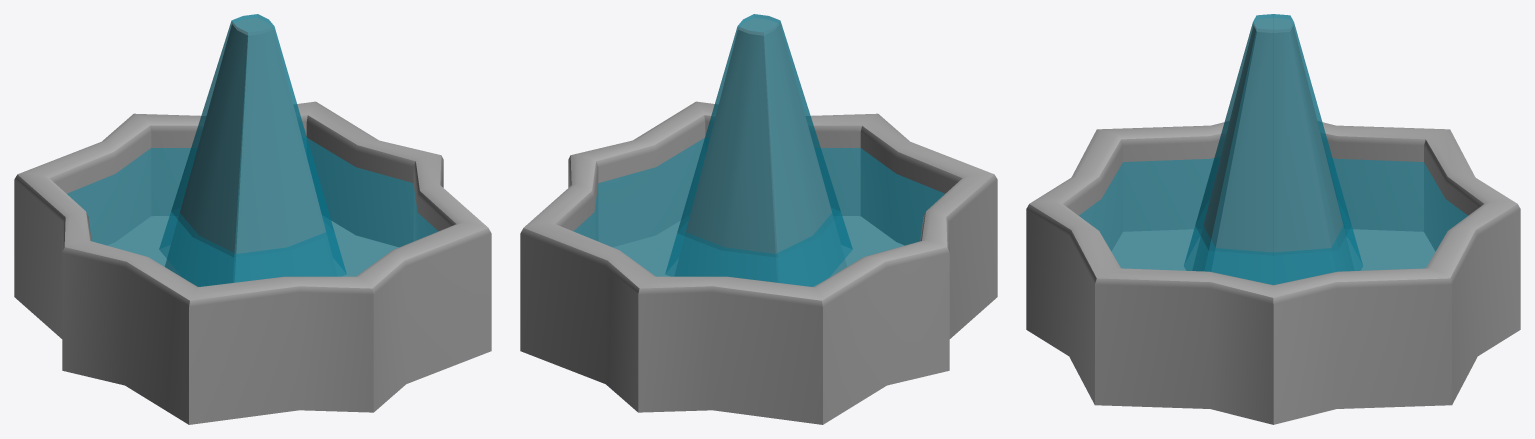
Rendered from P_Fuente_Ciudad.fbx.
The picture shows the model from 3 angles, left to right: view 1: azimuth 30°, elevation 25°; view 2: azimuth 150°, elevation 25°; view 3: azimuth 270°, elevation 25°; orthographic projection. The views are drawn at different scales.
Visible parts, largest first — view 1: FuenteSuperior, AguaCaida; view 2: FuenteSuperior, AguaCaida; view 3: FuenteSuperior, AguaCaida.
Boxes of the visible parts, x1,y1,x2,y2 form: FuenteSuperior: (14,17,491,424); AguaCaida: (159,14,346,286); FuenteSuperior: (520,17,997,424); AguaCaida: (665,14,852,286); FuenteSuperior: (1026,18,1520,424); AguaCaida: (1184,14,1362,284).
Bounding box in the file's own units: 5.05 × 3.8 × 5.54.
